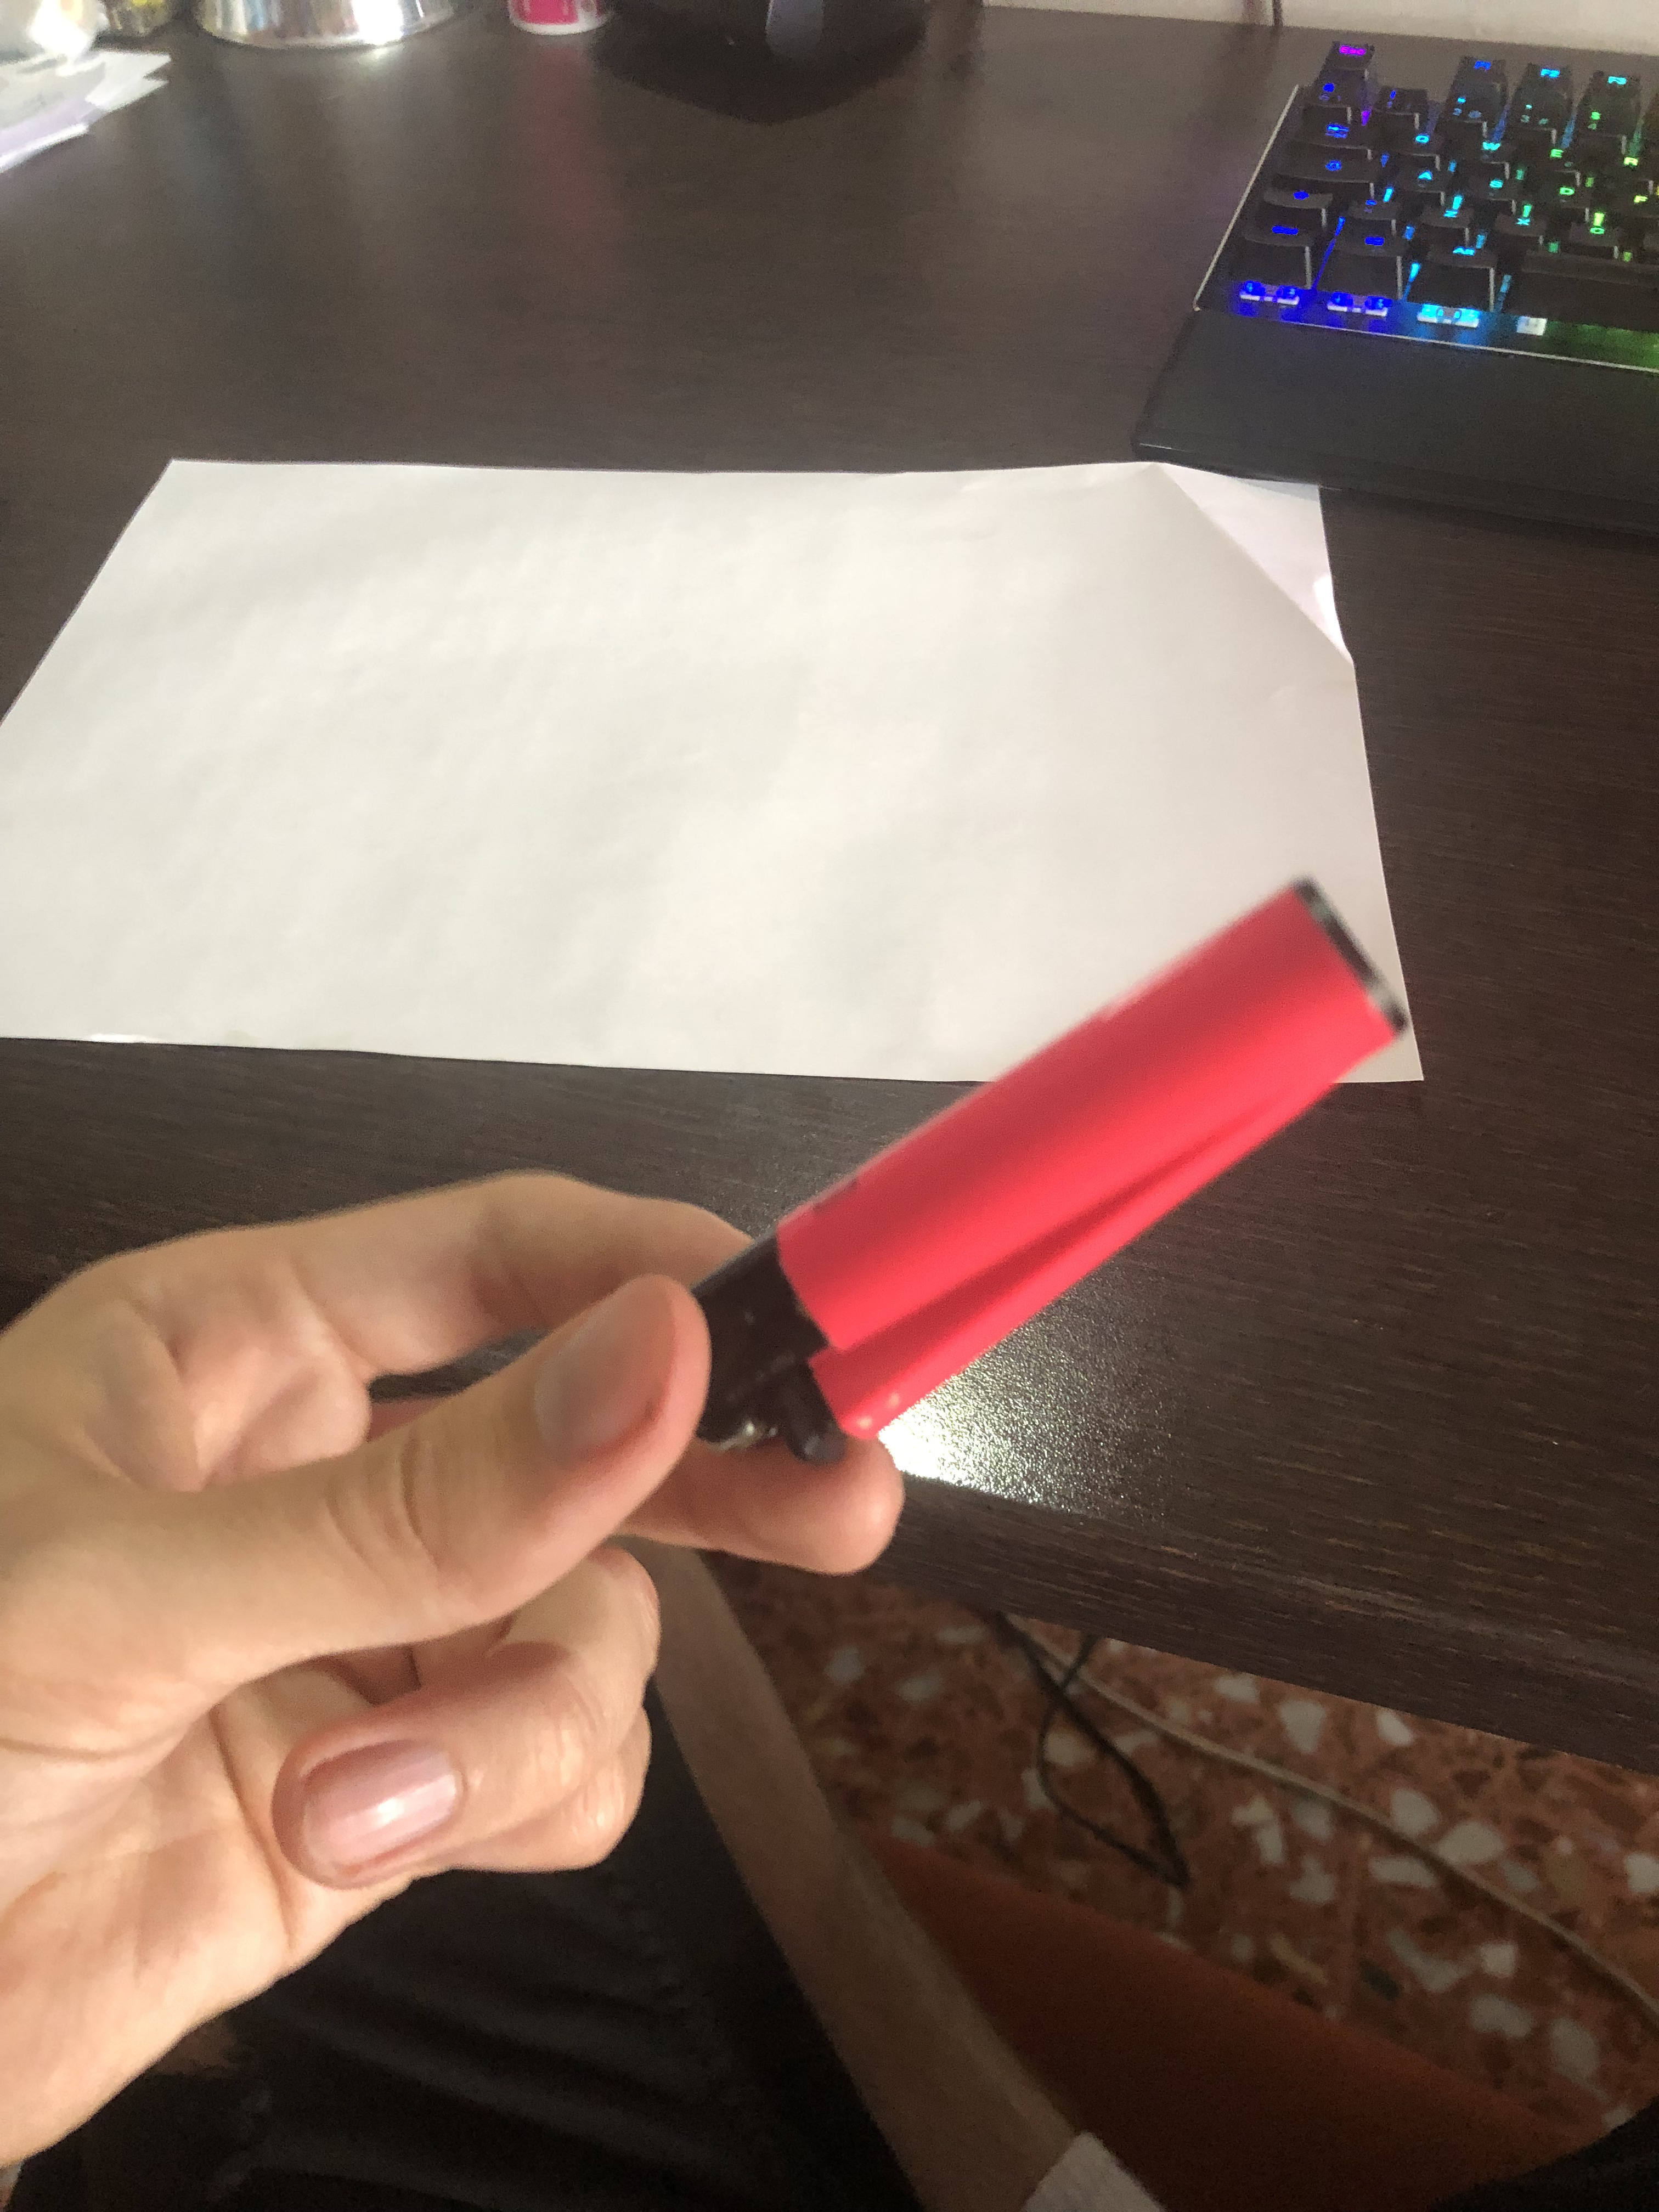Mechero: (671, 852, 1420, 1517)
